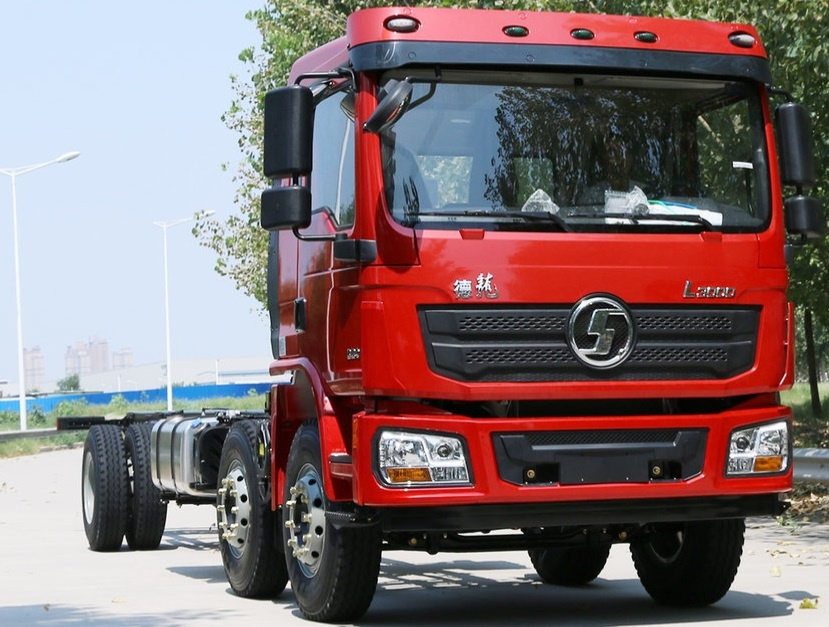heavy truck: (76, 27, 794, 606)
